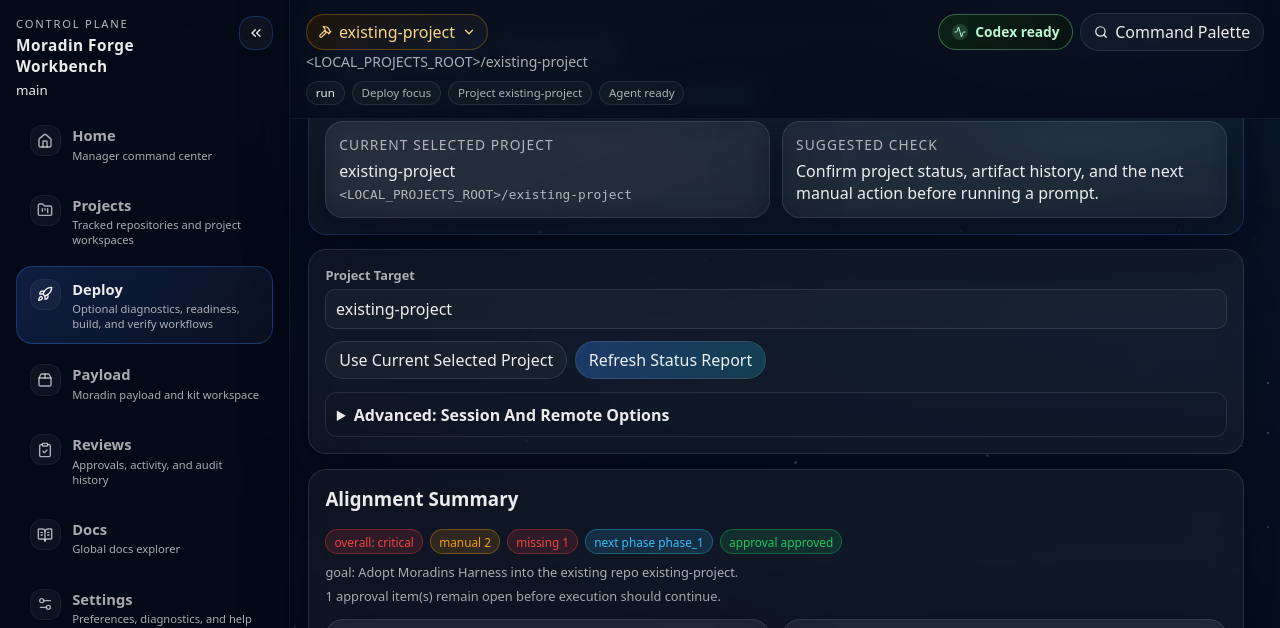
Test case: project status page › renders project status and actionable queue
The width and height of the screenshot is (1280, 628).
(page scrolled)
Click the button "Refresh Status Report" at (670, 360), box [575,342,766,379]
(page scrolled)
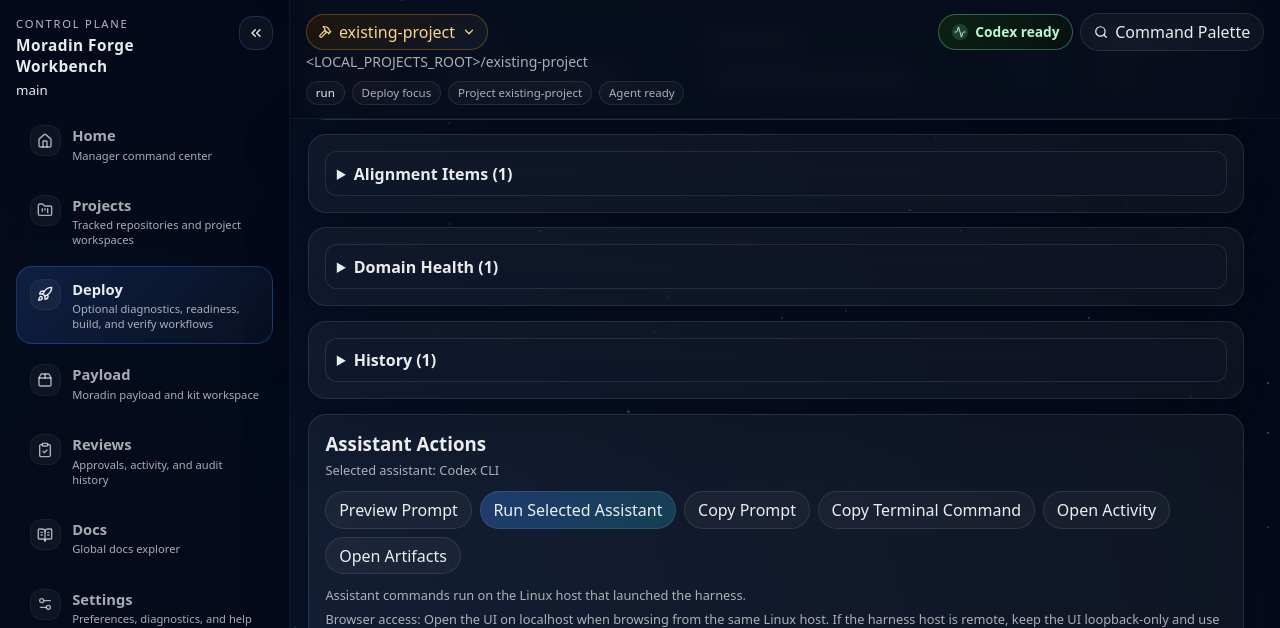
Click the heading "History (1)" at (395, 360), box [354,349,436,371]
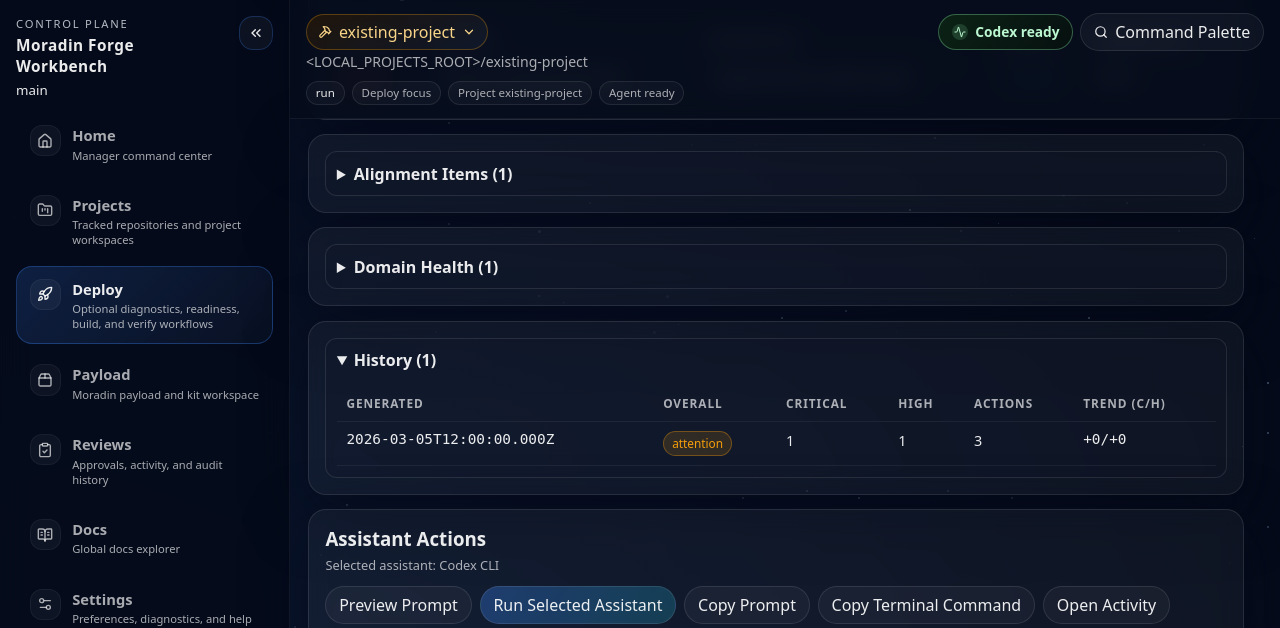
Result: the text "2026-03-05T12:00:00.000Z" is shown at [337,421,654,466]
